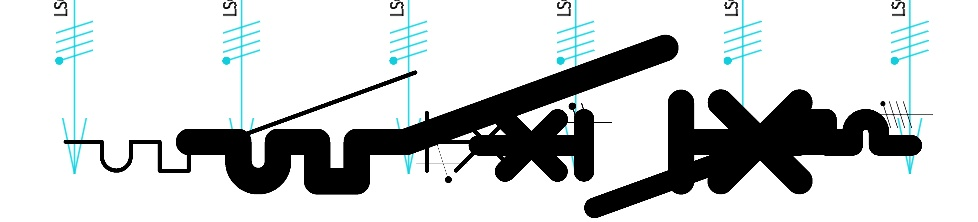interruptor_termomagnetico: (172, 31, 855, 198), (53, 60, 555, 183), (467, 108, 923, 219)
